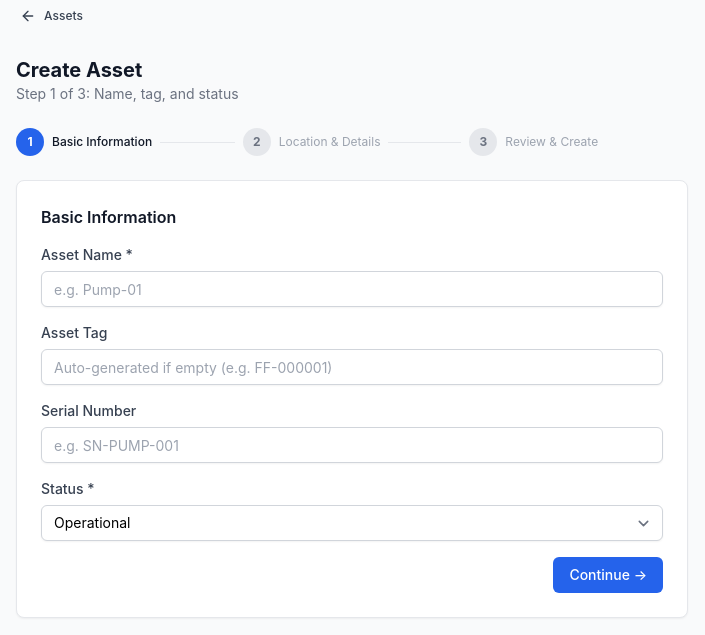
Test: AssetCreatePage › shows back button on step 2 to go back
The width and height of the screenshot is (705, 635).
In the field labelled "Asset Name *": (352, 289) [41,271,663,307], type "My Pump"
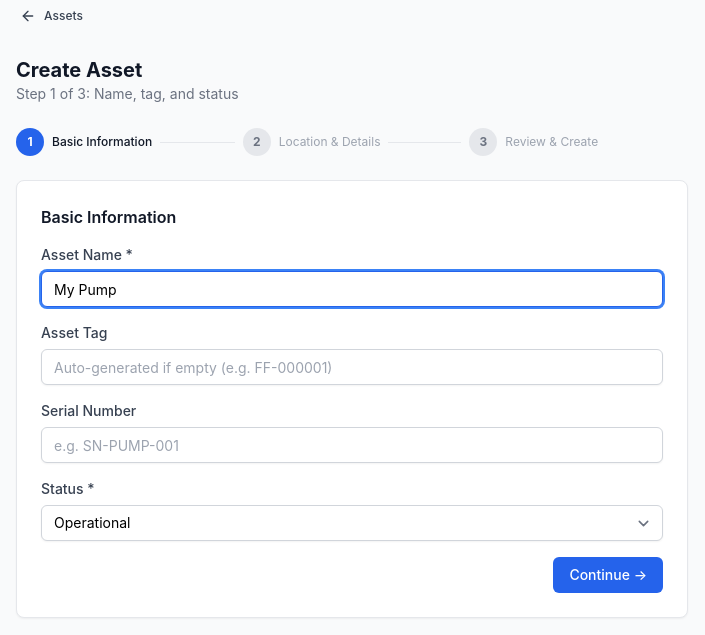
Click the button "Continue →": (608, 575) [553,557,663,593]
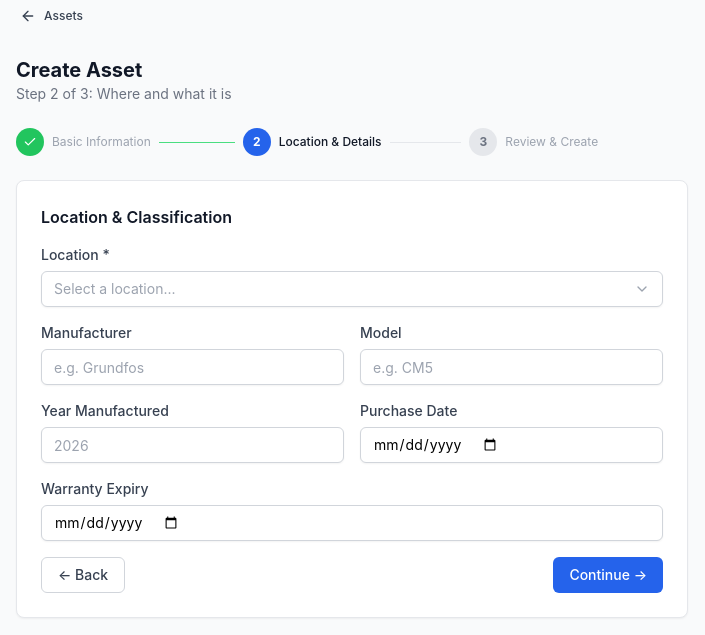
Result: the button "← Back" is shown
Click the button "← Back": (83, 575) [41,557,125,593]
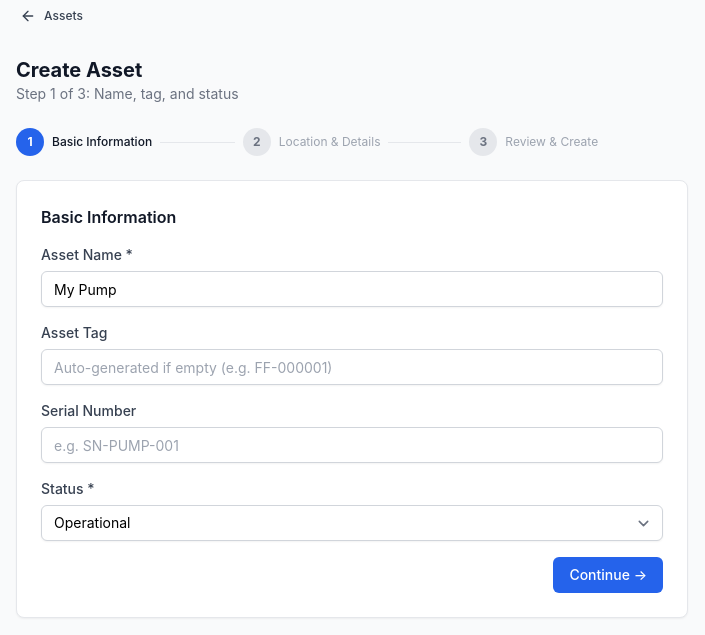
Result: the field labelled "Asset Name *" is shown at [41,271,663,307]
